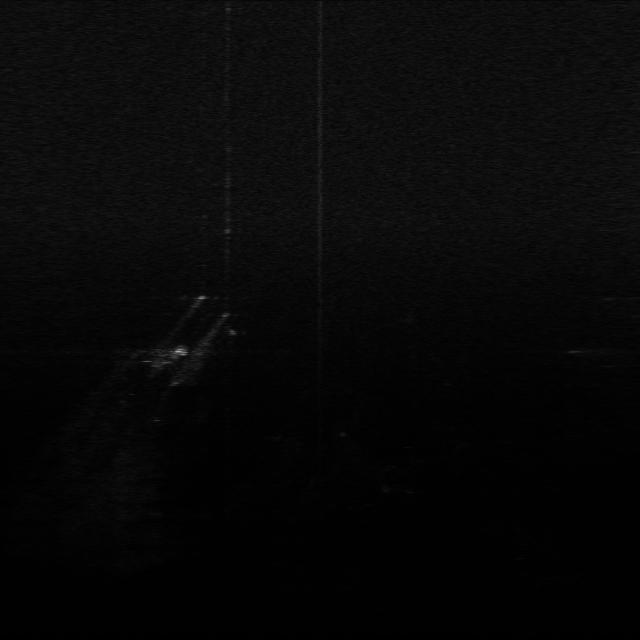rov: (170, 345, 190, 359)
